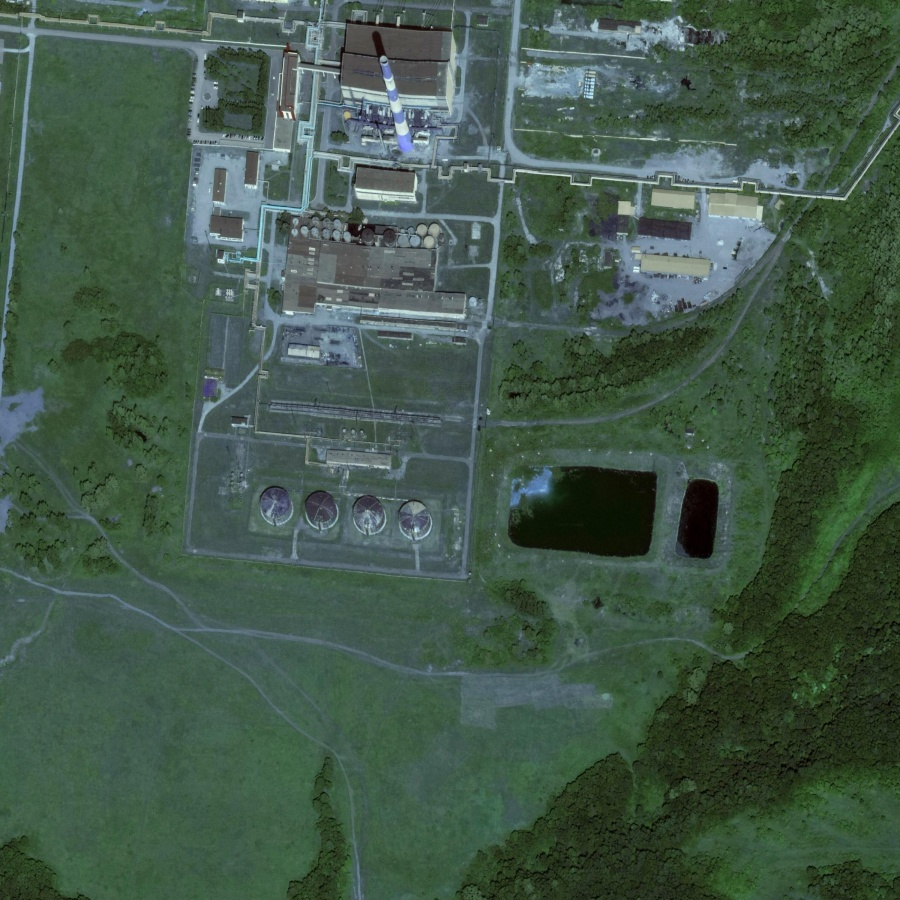PowerPlant: (253, 435, 464, 601), (498, 452, 732, 579)
